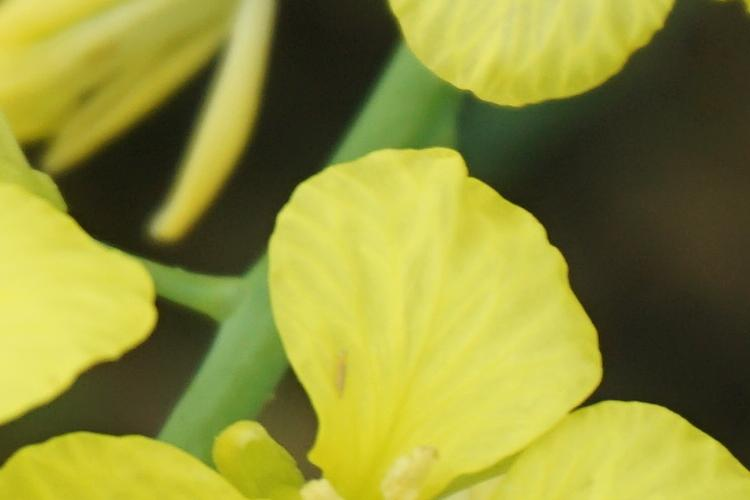bud: (214, 420, 307, 492)
yellow: (268, 155, 733, 500), (3, 2, 265, 210), (2, 187, 137, 382), (389, 4, 687, 92)
